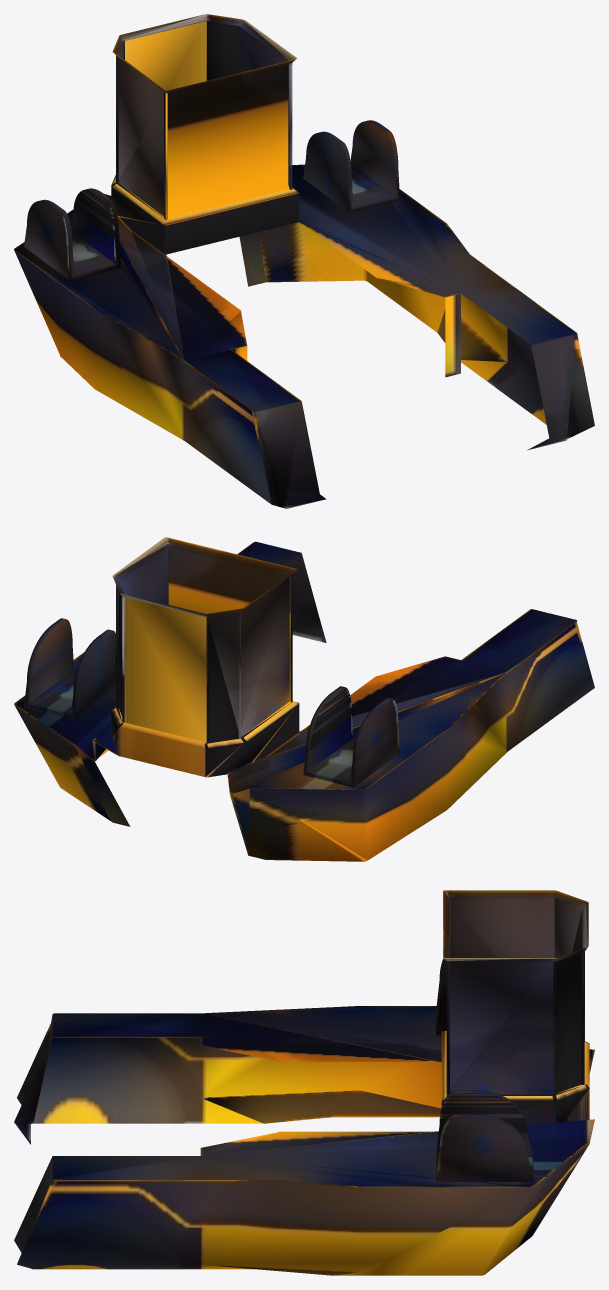
The model's file is head.obj.
3 renders of one model, top to bottom at view 1: azimuth 30°, elevation 25°; view 2: azimuth 150°, elevation 25°; view 3: azimuth 270°, elevation 25°, orthographic. The views are drawn at different scales.
Parts seen in each view (by area): view 1: Van.005, Van.008, Van.009; view 2: Van.005, Van.008, Van.009; view 3: Van.005, Van.009, Van.008.
Boxes of the visible parts, x1,y1,x2,y2 form: Van.005: (14,14,594,508); Van.008: (24,188,120,280); Van.009: (303,120,399,212); Van.005: (14,537,594,861); Van.008: (303,686,399,787); Van.009: (24,618,115,719); Van.005: (14,890,594,1275); Van.009: (436,1090,533,1181); Van.008: (436,958,446,1035).
Bounding box in the file's own units: 5.02 × 3.5 × 6.78.
Materials: 1 (1 with a texture image).
